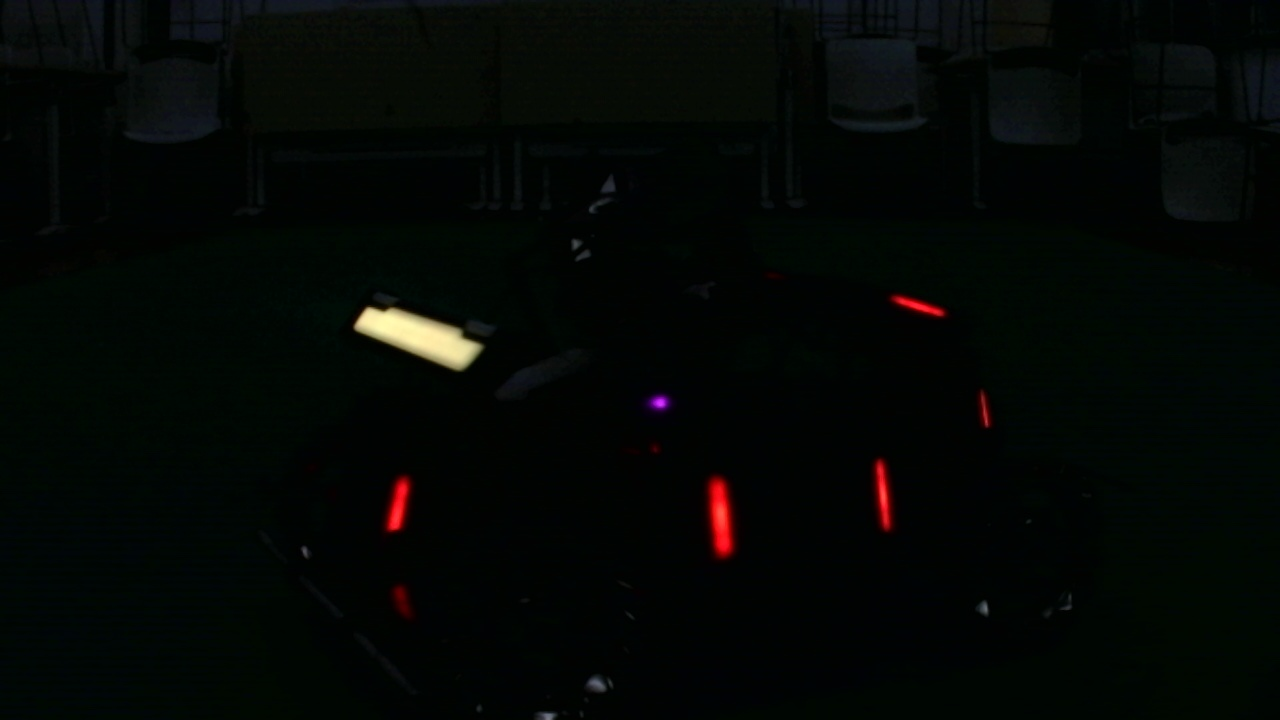lamp: (705, 467, 734, 564), (385, 467, 410, 538), (870, 456, 890, 527)
notpair1: (386, 468, 735, 565)
pair1: (709, 457, 891, 555)
